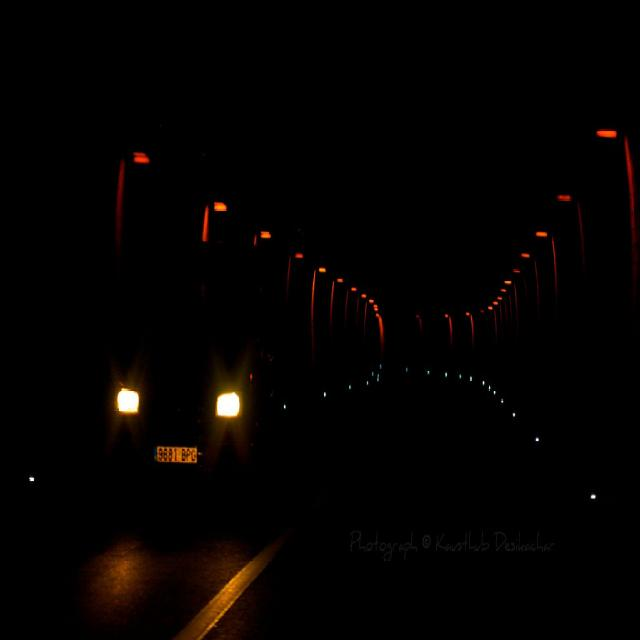car: (108, 278, 298, 524)
